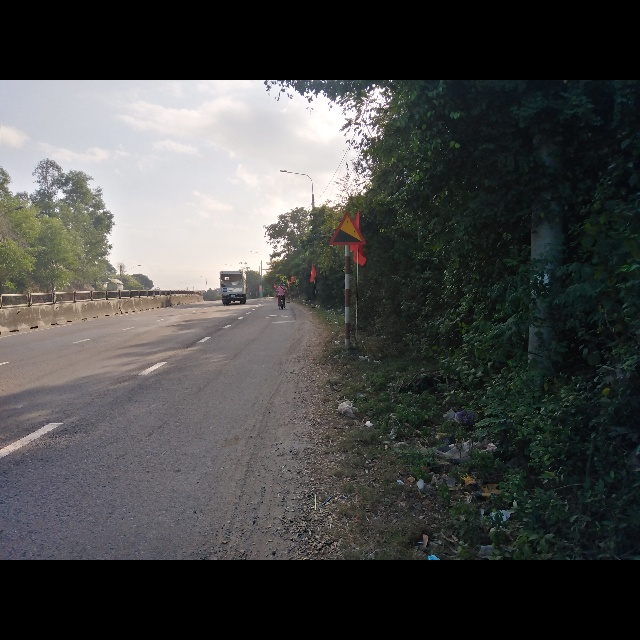Dốc lên nguy hiểm: (330, 213, 367, 246)
